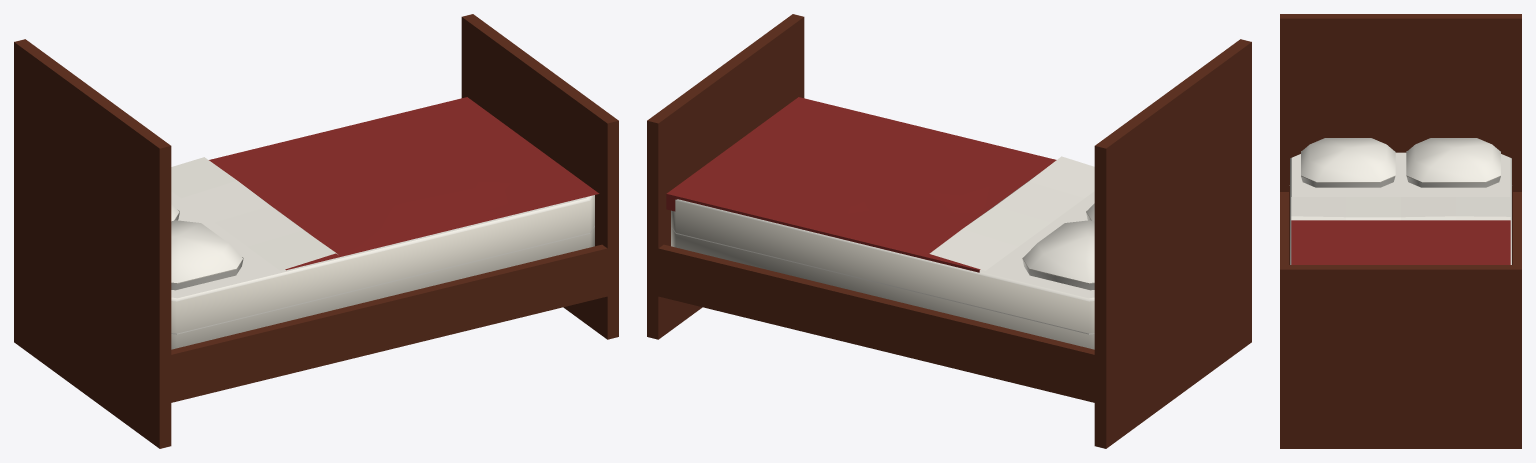
Rendered from parametric-bed-2nd.glb.
The picture shows the model from 3 angles, left to right: view 1: azimuth 30°, elevation 25°; view 2: azimuth 150°, elevation 25°; view 3: azimuth 270°, elevation 25°; orthographic projection. The views are drawn at different scales.
Visible parts, largest first — view 1: parametric-bed-2nd; view 2: parametric-bed-2nd; view 3: parametric-bed-2nd.
Part boxes in pixels (left/top/right/bottom): parametric-bed-2nd: left=14, top=14, right=618, bottom=448; parametric-bed-2nd: left=647, top=14, right=1251, bottom=448; parametric-bed-2nd: left=1280, top=14, right=1521, bottom=448.
Bounding box in the file's own units: 2 × 1.25 × 1.1.
